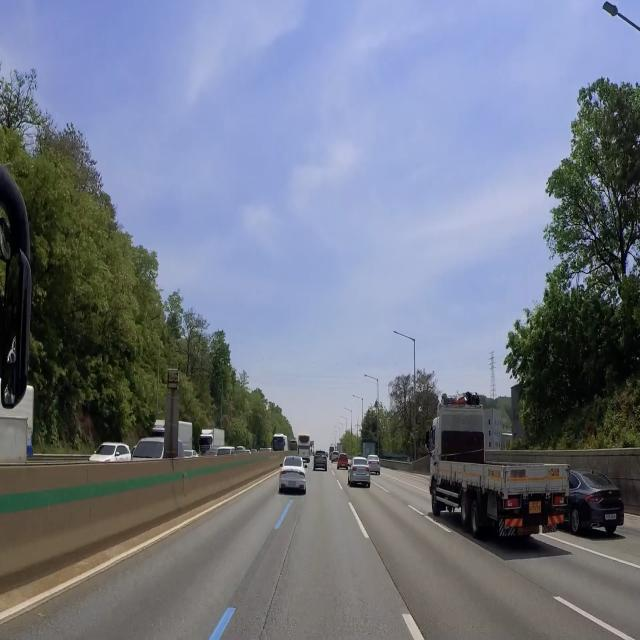car: (528, 497, 542, 516), (603, 511, 620, 523), (356, 466, 369, 478), (288, 479, 300, 489)
